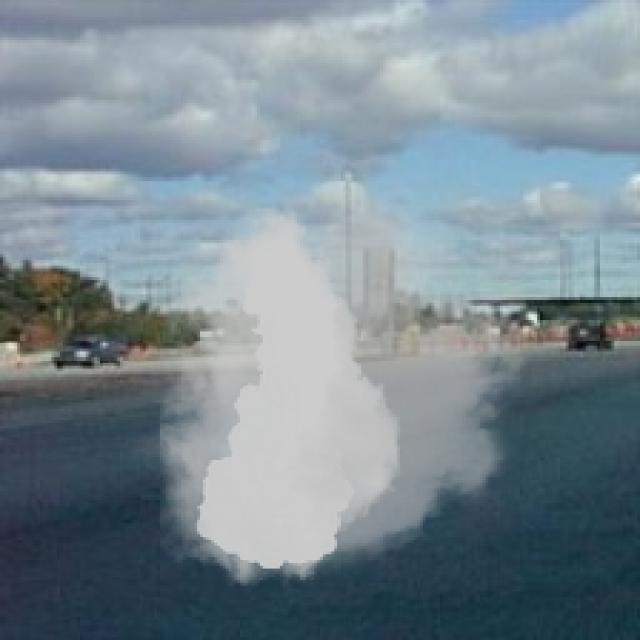smoke: (126, 180, 551, 597)
